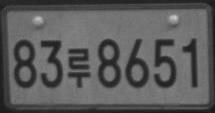1: (181, 37, 205, 87)
3: (39, 39, 63, 89)
5: (154, 38, 177, 89)
6: (125, 38, 150, 88)
8: (96, 38, 122, 88), (13, 38, 37, 88)
루: (67, 47, 91, 87)
